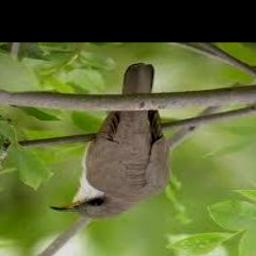Cuckoo: (49, 63, 174, 219)
